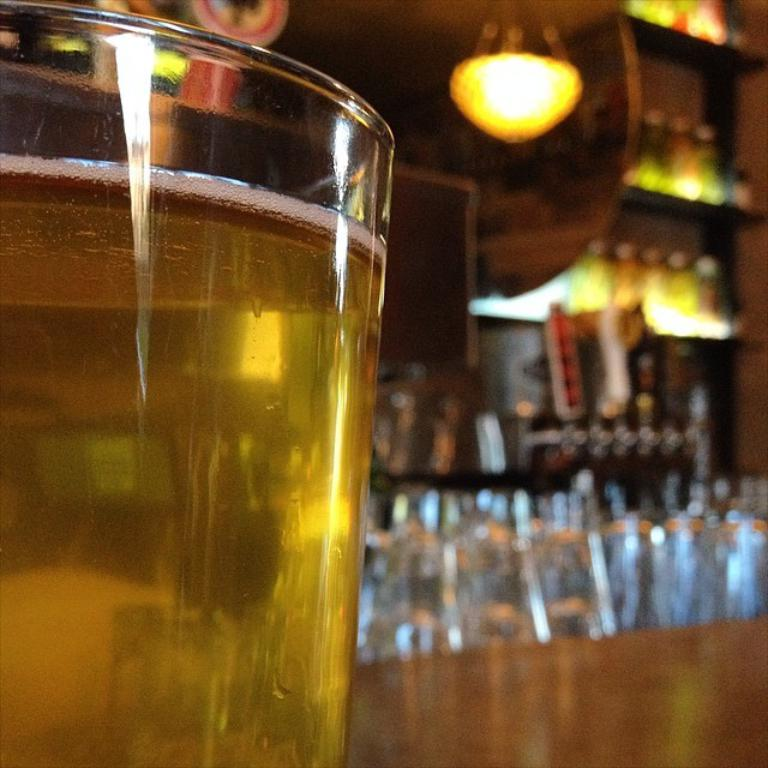Beer: (0, 159, 389, 766)
